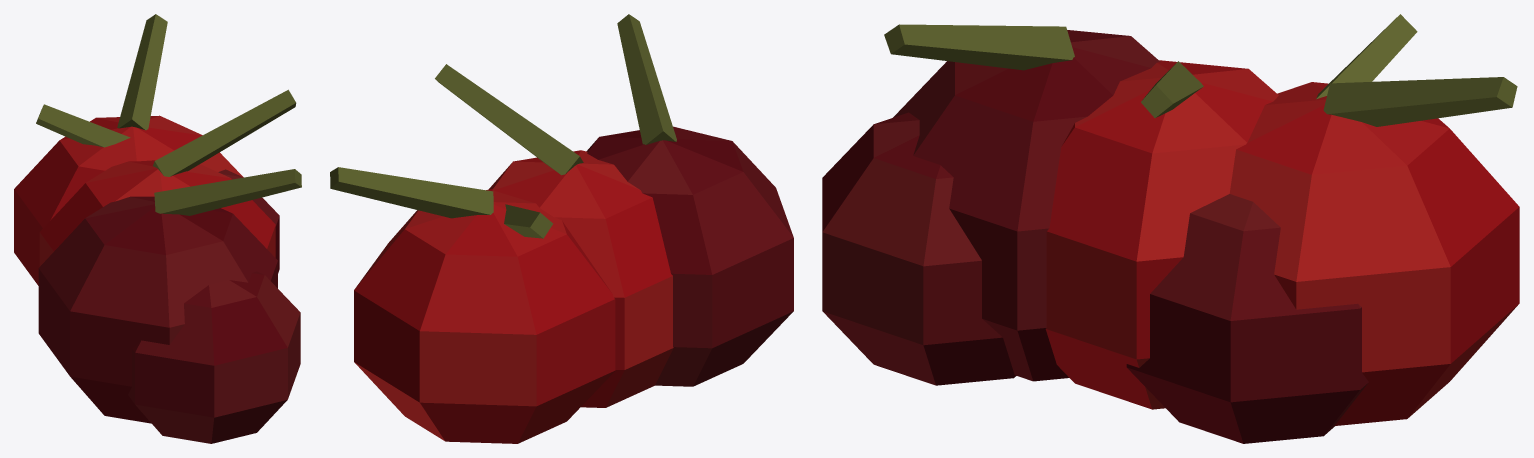
File: fruit_ground_fruits_b.glb
The picture shows the model from 3 angles, left to right: view 1: azimuth 30°, elevation 25°; view 2: azimuth 150°, elevation 25°; view 3: azimuth 270°, elevation 25°; orthographic projection. The views are drawn at different scales.
Visible parts, largest first — view 1: fruit_ground_fruits_b; view 2: fruit_ground_fruits_b; view 3: fruit_ground_fruits_b.
Part boxes in pixels (x1,y1,x2,y2): fruit_ground_fruits_b: [14, 14, 301, 443]; fruit_ground_fruits_b: [330, 14, 793, 443]; fruit_ground_fruits_b: [822, 14, 1519, 443].
Bounding box in the file's own units: 0.3557 × 0.3204 × 0.5051.
